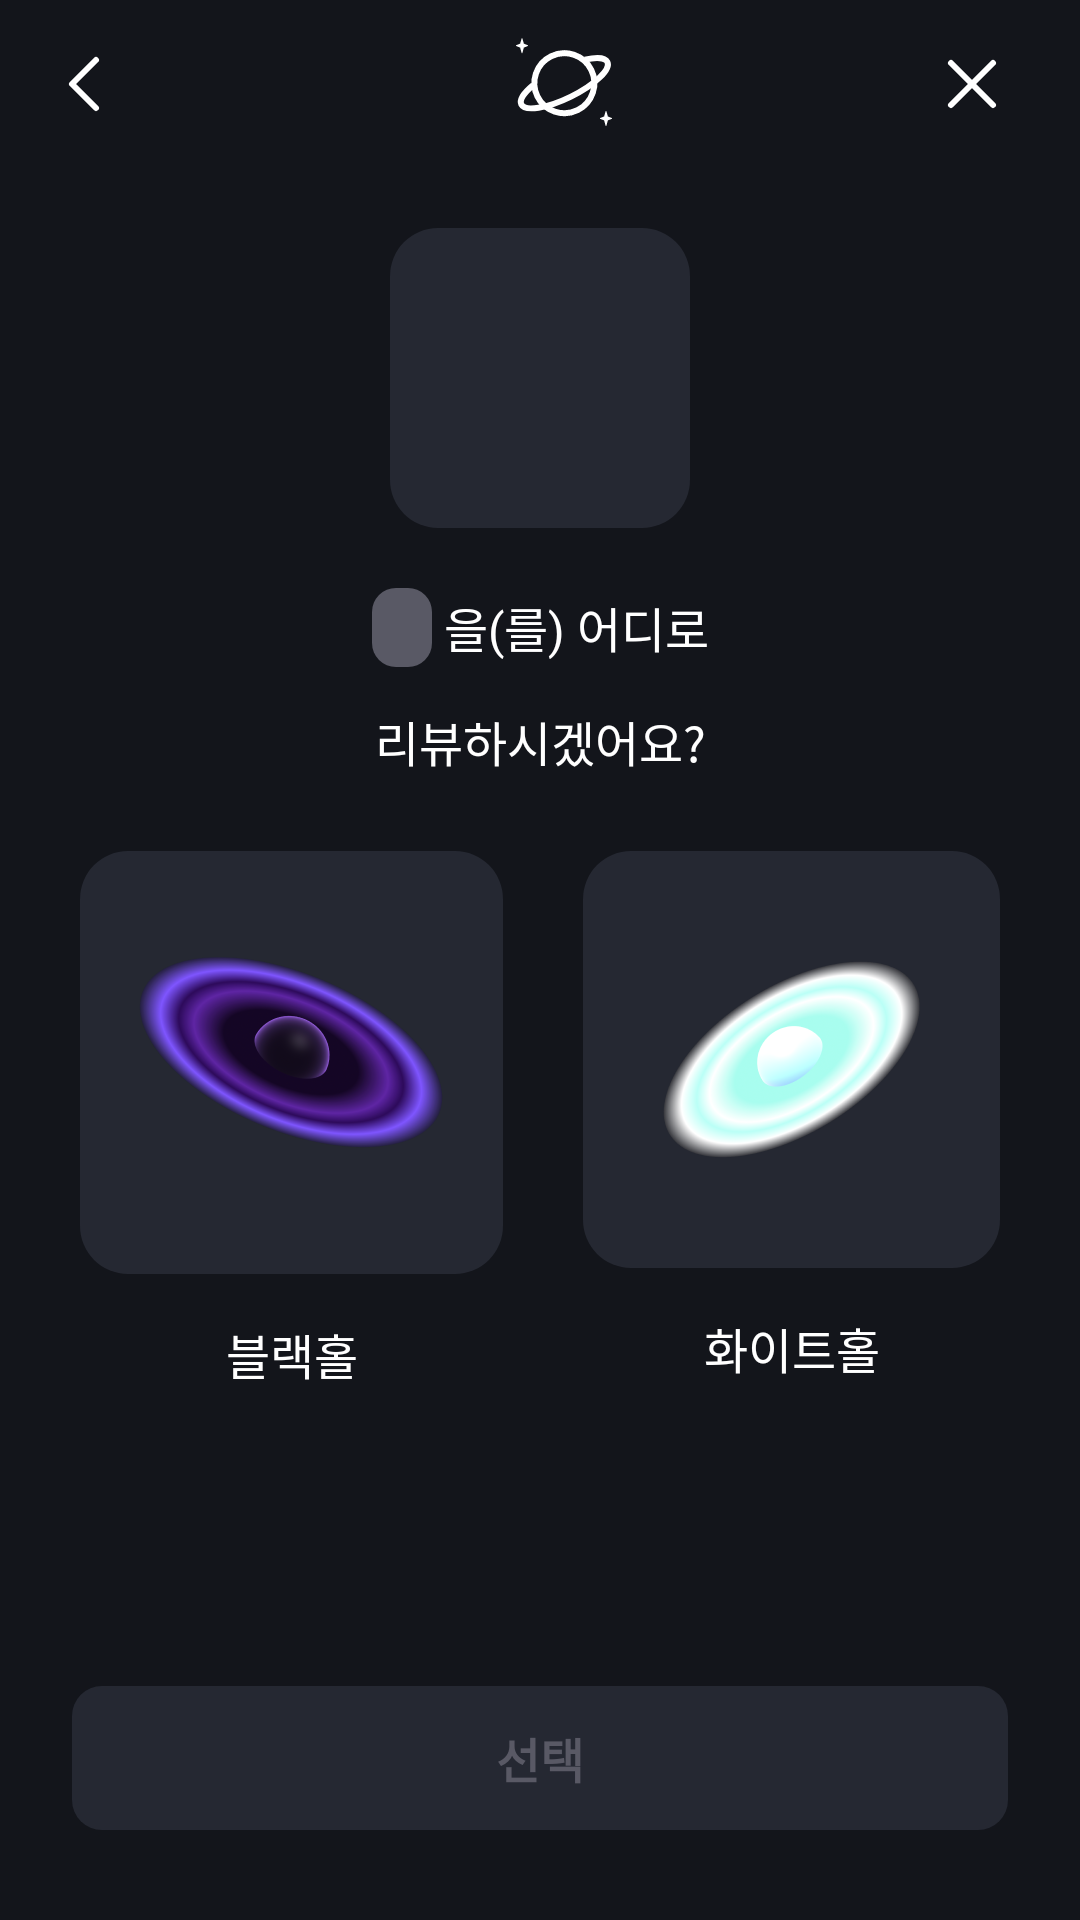

Screen size 1080×1920. Icon name, then its box in pixels as (x1, y1, x2, y2):
back button: (69, 56, 99, 111)
close button: (948, 59, 996, 108)
hole: (139, 957, 443, 1148), (663, 961, 920, 1158)
planet toolbar: (516, 38, 612, 126)
